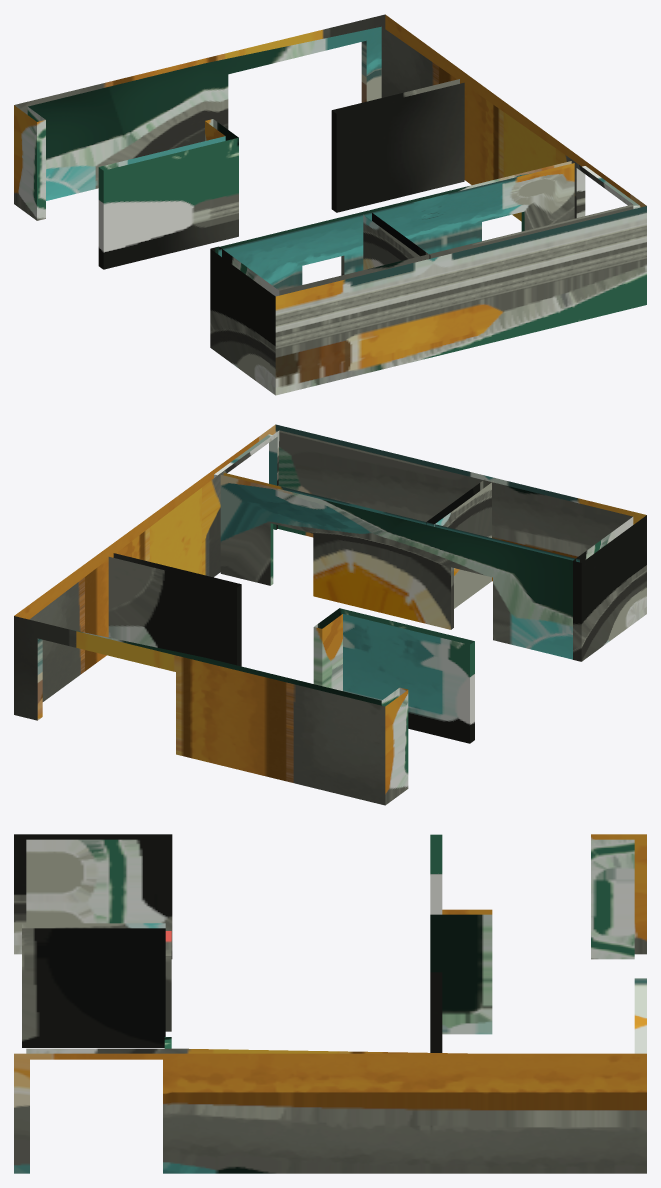
The model's file is WindmillHouseFloorMain.fbx.
The picture shows the model from 3 angles, top to bottom: view 1: azimuth 30°, elevation 25°; view 2: azimuth 150°, elevation 25°; view 3: azimuth 270°, elevation 25°; orthographic projection. The views are drawn at different scales.
Parts seen in each view (by area): view 1: WindmillHouseOutsideWalls.001; view 2: WindmillHouseOutsideWalls.001; view 3: WindmillHouseOutsideWalls.001.
Part boxes in pixels (x1,y1,x2,y2): WindmillHouseOutsideWalls.001: (14, 14, 646, 395); WindmillHouseOutsideWalls.001: (14, 424, 646, 805); WindmillHouseOutsideWalls.001: (14, 834, 646, 1173).
Size of the model in its own units: 22.74 by 5.8 by 27.75.
